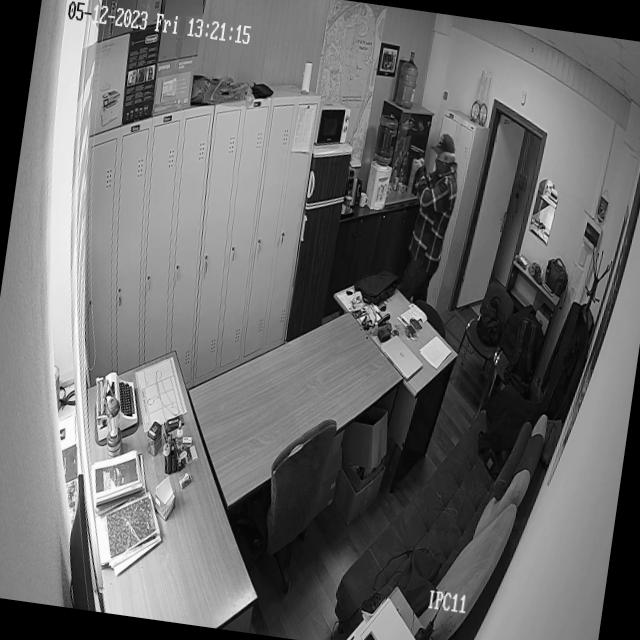gun: (402, 140, 428, 158)
person with a gun: (388, 119, 472, 302)
